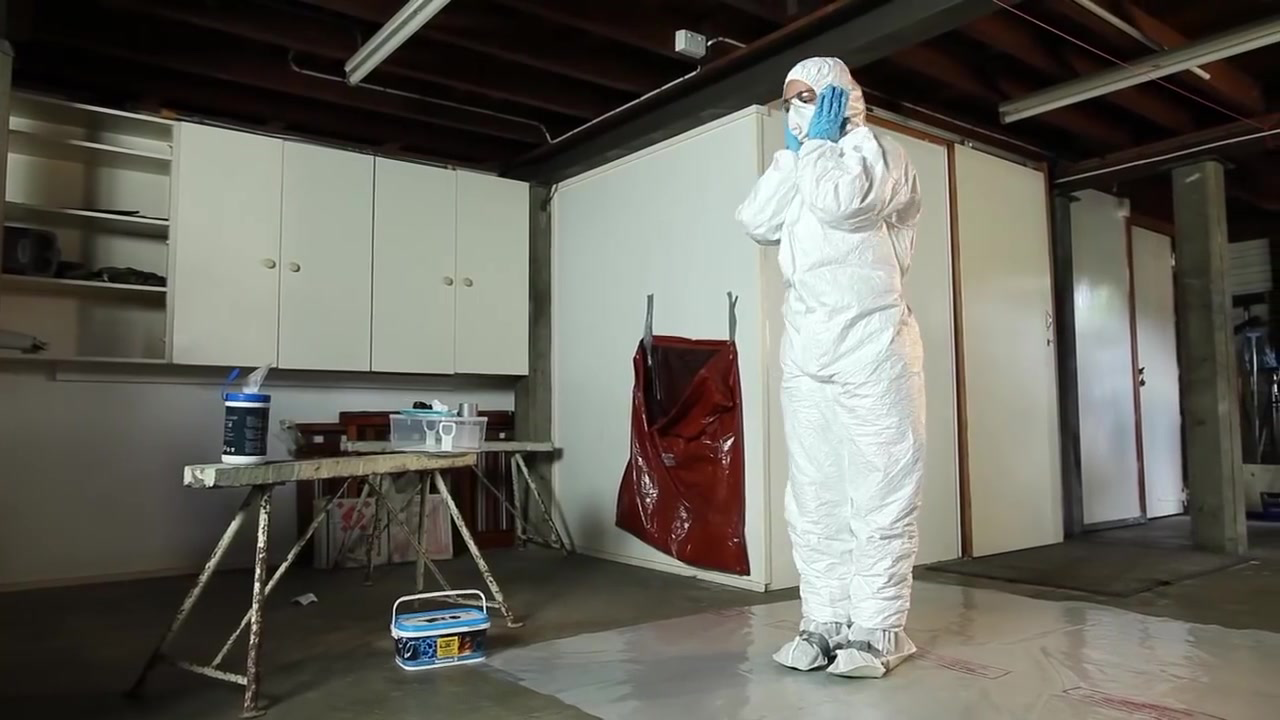Coverall: (746, 53, 944, 648)
Gloves: (810, 86, 849, 148)
with_mask: (784, 94, 818, 139)
